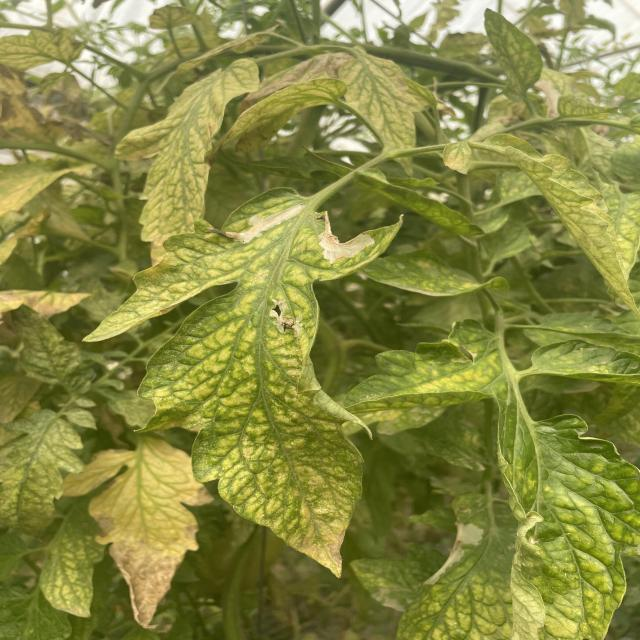Tuta absoluta: (215, 196, 309, 252), (311, 201, 377, 266)
